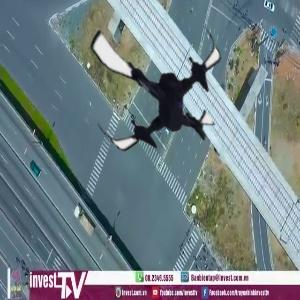drone: (78, 6, 235, 163)
